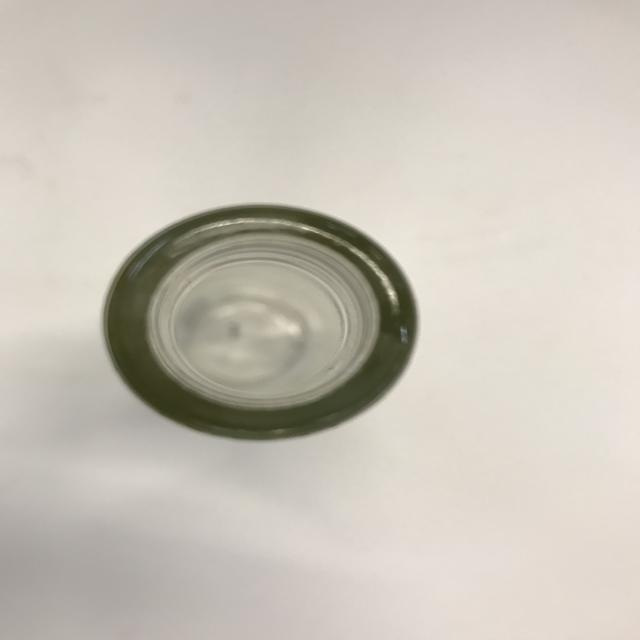glass: (102, 203, 421, 442)
